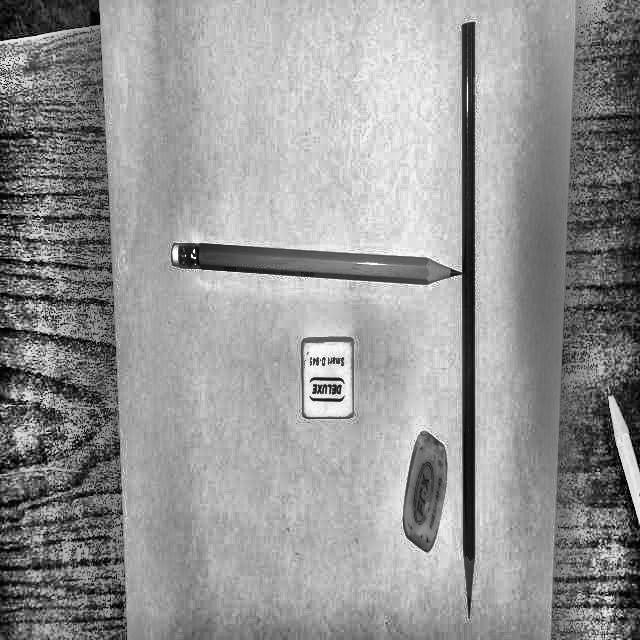eraser: (379, 360, 481, 577), (278, 317, 381, 452)
